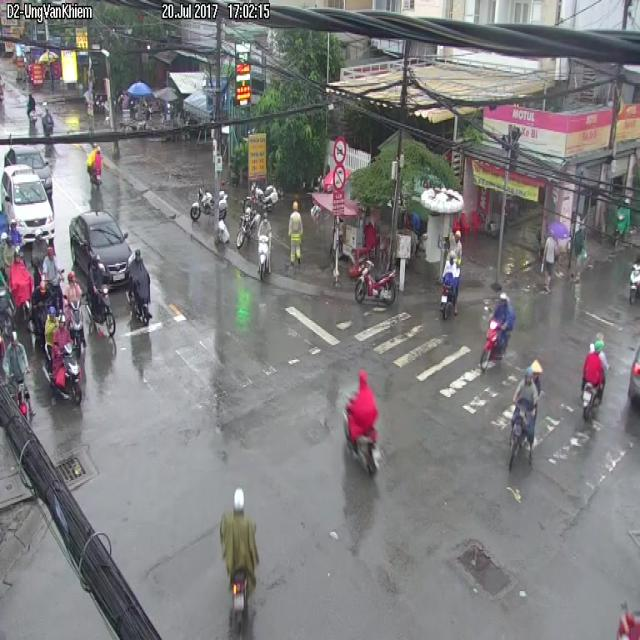car: (221, 487, 258, 628), (344, 370, 378, 473), (46, 316, 82, 404), (510, 366, 538, 467), (481, 292, 515, 369), (2, 330, 32, 415), (582, 336, 608, 419), (88, 259, 115, 335), (355, 259, 397, 305), (127, 249, 152, 324), (42, 246, 62, 310), (441, 255, 458, 314), (258, 212, 272, 280), (86, 147, 101, 182), (628, 255, 639, 302)
traffic-light: (70, 210, 132, 287), (2, 164, 53, 244), (15, 147, 52, 199)
